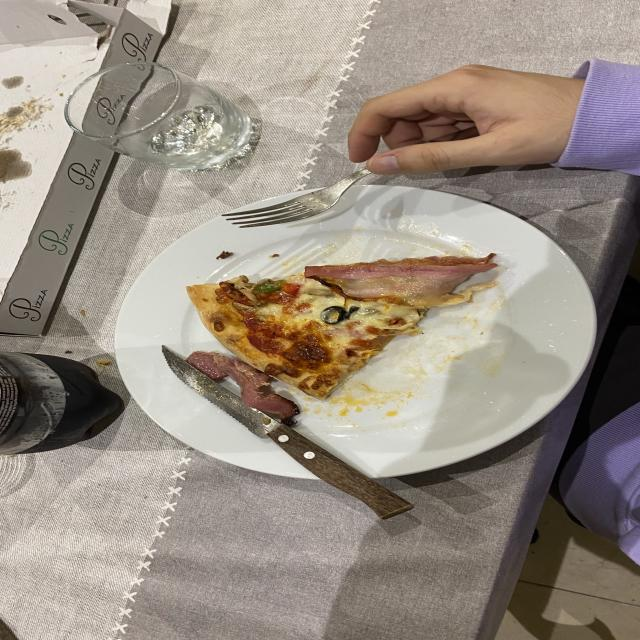bacon: (187, 351, 299, 424)
fork: (222, 167, 370, 228)
knife: (162, 346, 414, 519)
pizza: (187, 254, 497, 399)
plate: (115, 185, 595, 479)
water cup: (65, 62, 256, 170)
